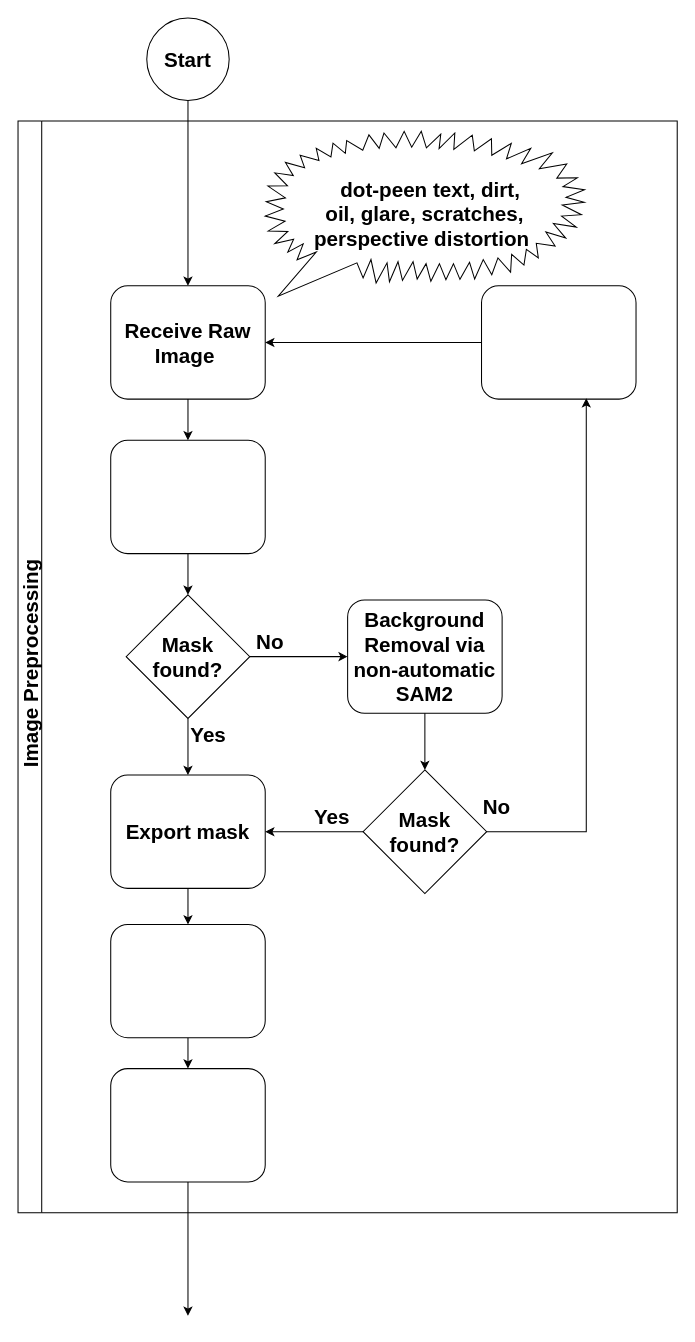
The diagram is 695 pixels wide and 1342 high, and some of its shapes have lost their labels. Here are the shapes that lost their labels. From the top down, the box of each, then its label:
(480, 285, 636, 399): Request Replacement Image
(110, 439, 265, 554): Background Removal via automatic SAM2
(110, 923, 265, 1038): Perspective Rectification
(110, 1068, 265, 1182): Orientation Correction
